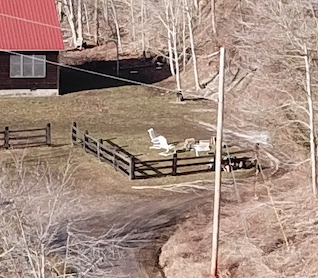pole: (198, 40, 241, 278)
